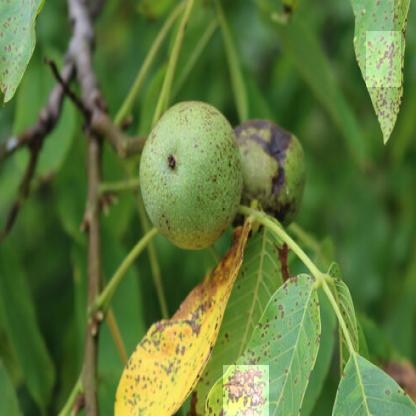black-spot: (223, 365, 269, 416), (366, 31, 401, 87), (0, 0, 31, 55)
